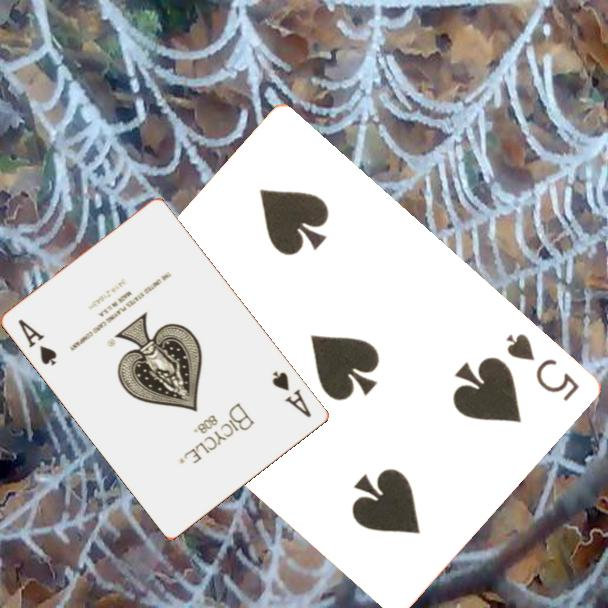s01: (269, 367, 315, 421), (15, 316, 60, 369)
s05: (501, 329, 582, 405)
